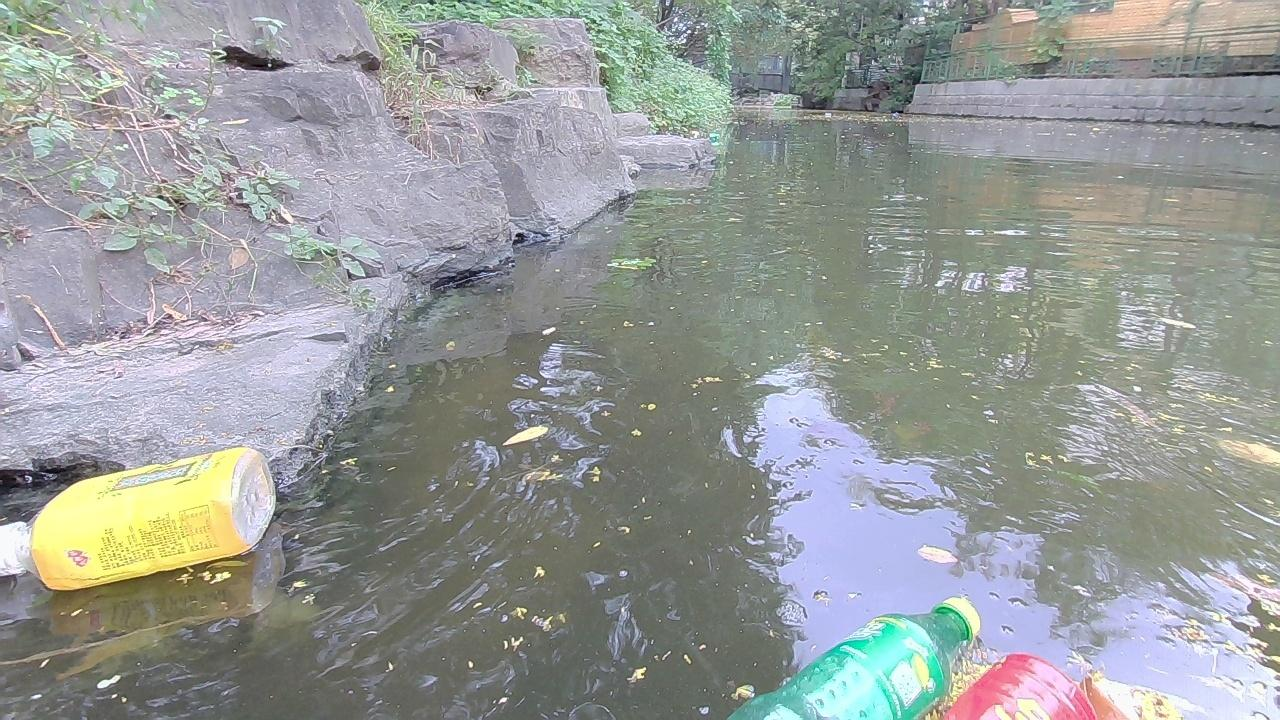bottle: (1, 442, 280, 589), (663, 595, 988, 719), (912, 649, 1093, 719)
